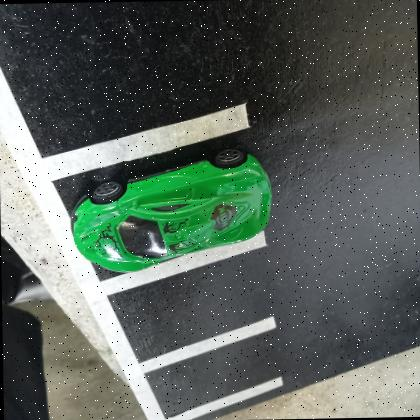Car: (71, 147, 272, 272)
